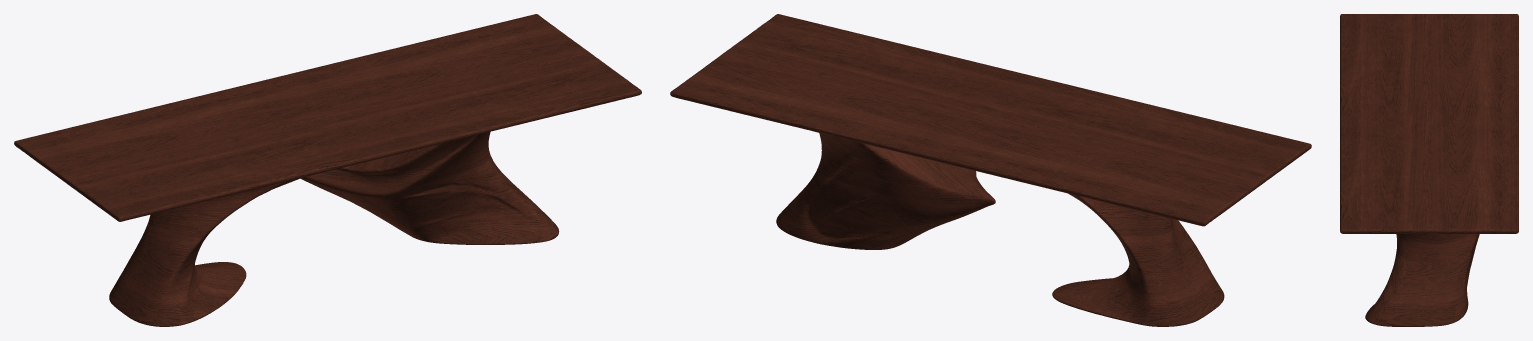
Rendered from RedWoodDining.glb.
3 renders of one model, left to right at view 1: azimuth 30°, elevation 25°; view 2: azimuth 150°, elevation 25°; view 3: azimuth 270°, elevation 25°, orthographic. The views are drawn at different scales.
Visible parts, largest first — view 1: world; view 2: world; view 3: world.
Part boxes in pixels (x1,y1,x2,y2): world: [14, 14, 641, 326]; world: [670, 14, 1311, 326]; world: [1340, 14, 1518, 326].
Bounding box in the file's own units: 1 × 0.2624 × 0.3506.
Materials: 1 (1 with a texture image).
